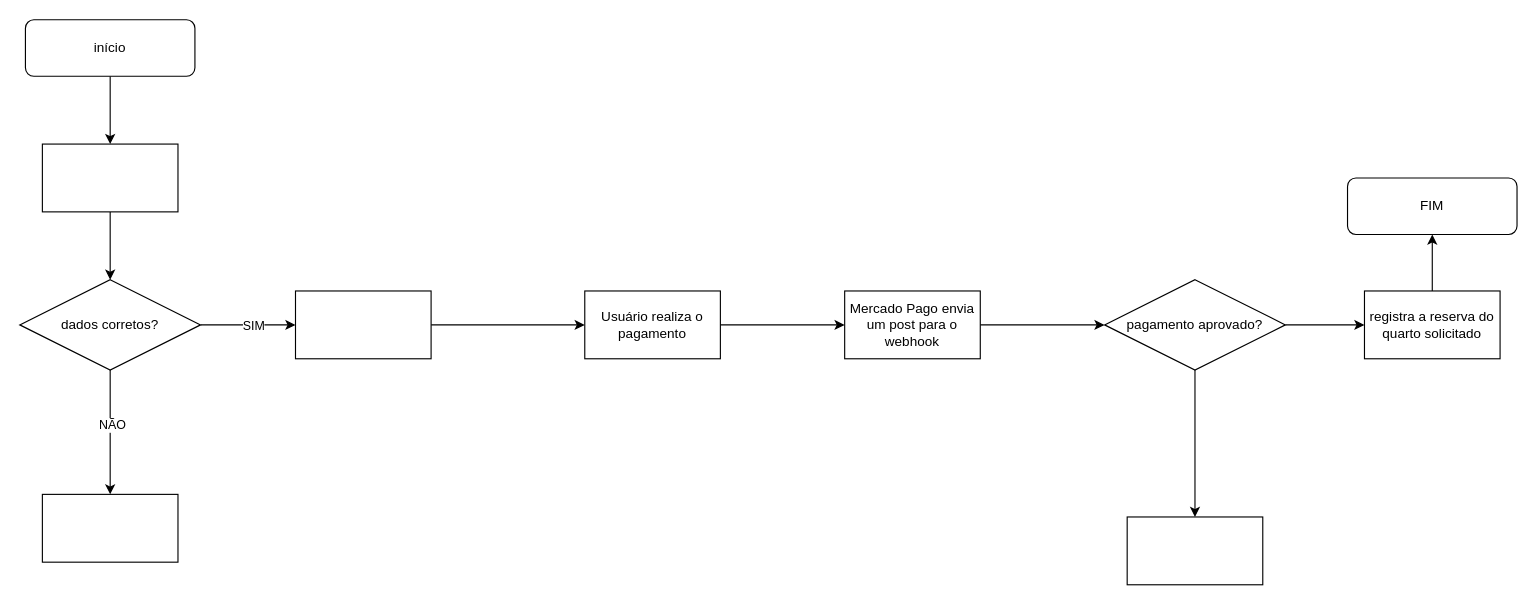
Some shapes in this 1537 by 605 pixel diagram are drawn without their labels. The shapes that lost their labels are listed below. From the top down, each one's centre as x and y in pixels, then its label:
(x=109, y=177): Usuário solicita uma reserva
(x=362, y=324): Gera o link para o checkout Mercado Pago
(x=109, y=527): Retornar erro
(x=1194, y=550): Cancelar Reserva
